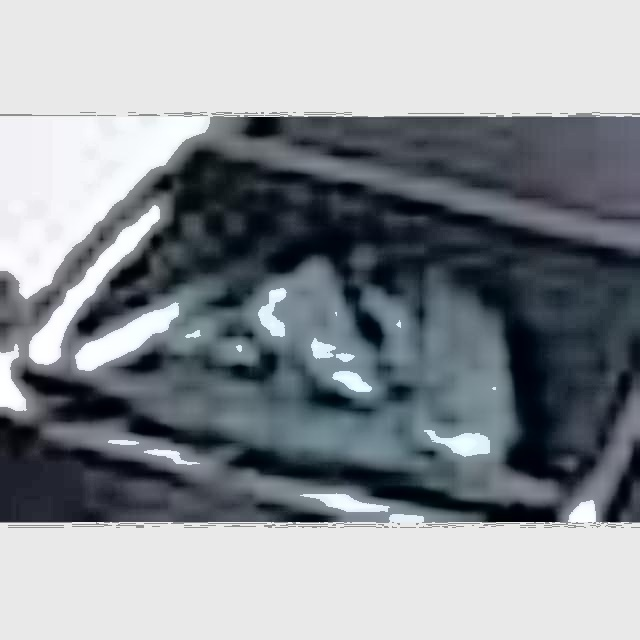pakai: (256, 245, 544, 437)
